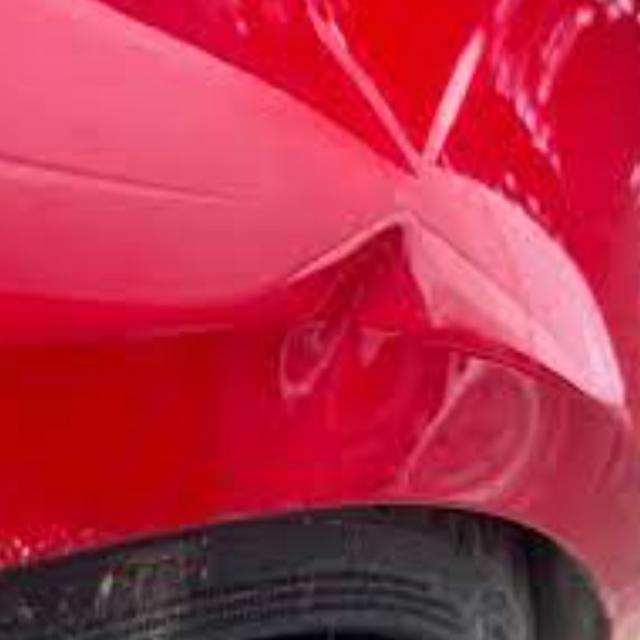dents: (278, 213, 438, 461)
